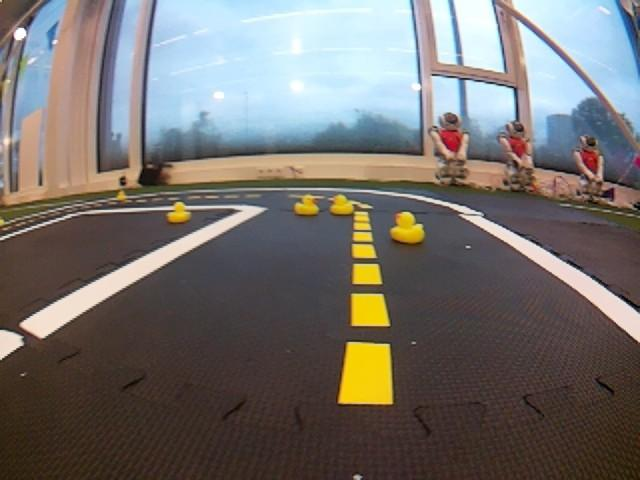Duckies: (390, 210, 423, 243), (295, 193, 319, 215), (168, 202, 190, 223), (330, 194, 352, 214), (117, 193, 128, 200), (0, 217, 4, 227)
